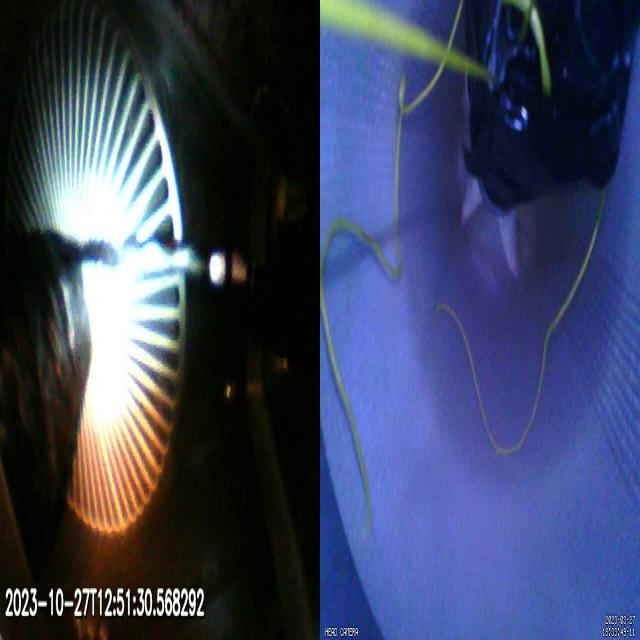white-dots: (209, 251, 257, 287)
